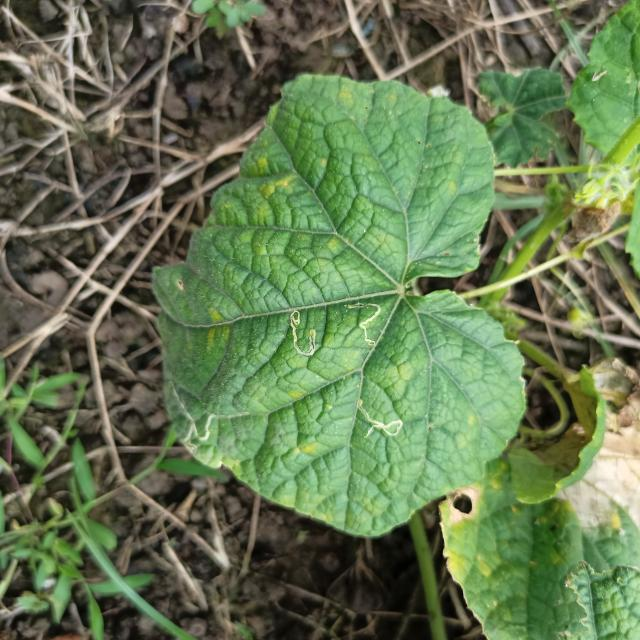disease_cucumber: (255, 154, 296, 205), (204, 305, 233, 350), (295, 440, 318, 458)
